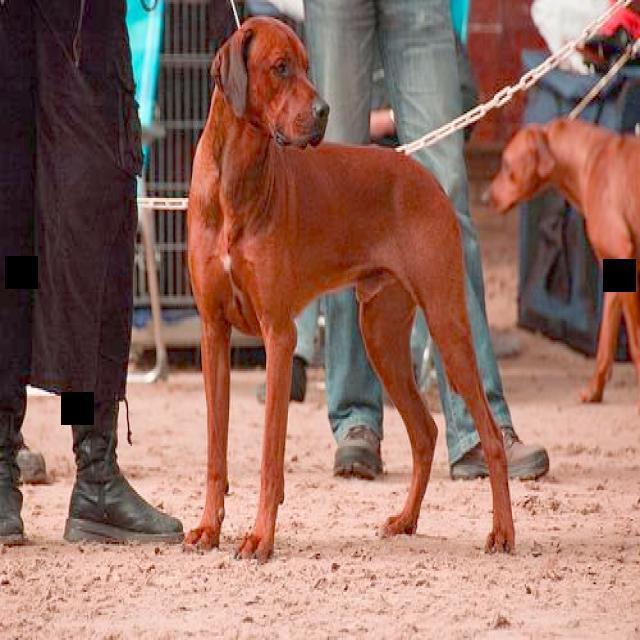adult_dog: (174, 14, 521, 563), (488, 116, 640, 405)
non-dog: (297, 1, 548, 484), (1, 1, 185, 549)
